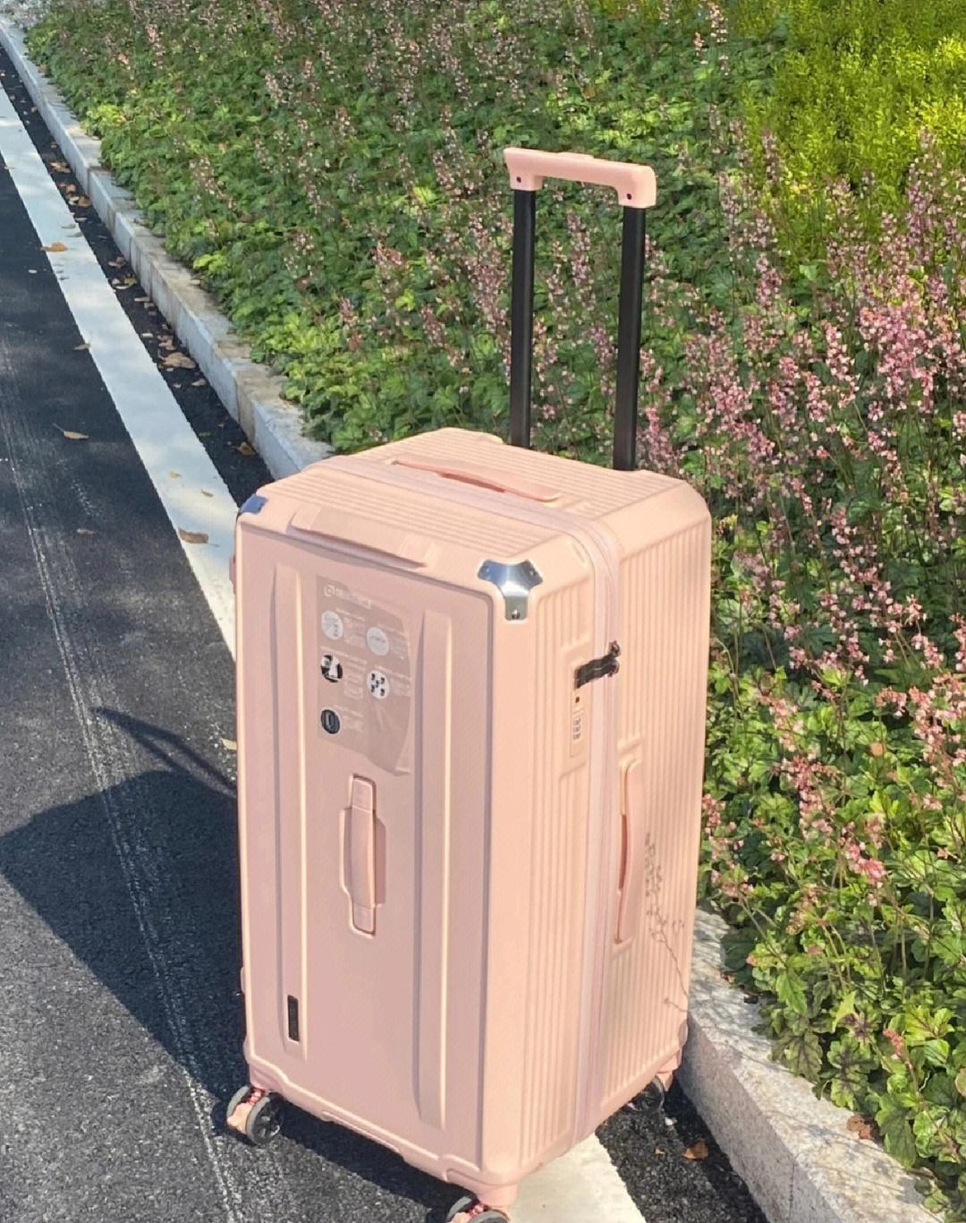box: (233, 426, 711, 1201)
handle: (394, 450, 562, 504), (614, 759, 647, 941)
lock: (555, 637, 618, 779)
wheel: (222, 1082, 291, 1144), (621, 1062, 674, 1114), (443, 1194, 511, 1223)
